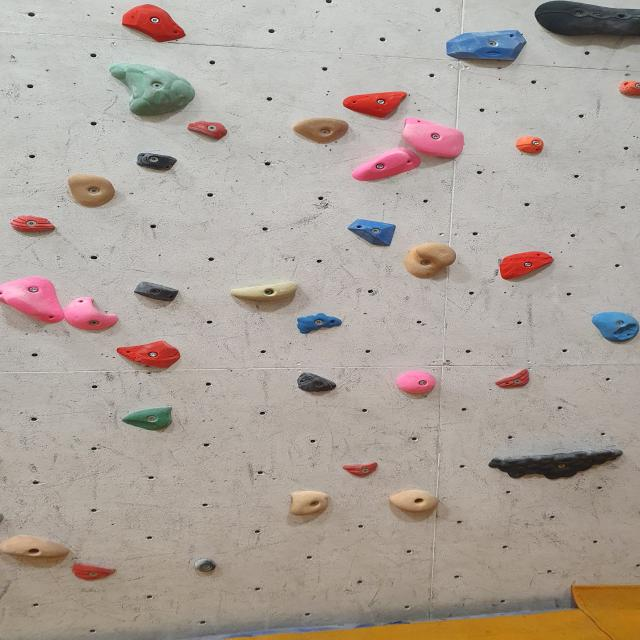Crimp: (443, 29, 529, 64), (124, 4, 191, 45), (354, 148, 426, 186), (120, 341, 182, 372), (342, 91, 415, 117), (498, 250, 552, 280), (292, 372, 343, 394), (69, 560, 118, 582), (186, 120, 230, 140), (342, 460, 390, 476), (11, 215, 52, 233), (496, 368, 530, 389)
Jug: (488, 447, 623, 482), (397, 119, 471, 162), (289, 115, 359, 144), (402, 242, 457, 278), (388, 486, 447, 514), (64, 298, 114, 330), (66, 176, 111, 207), (290, 489, 335, 518)
Pinch: (0, 533, 78, 560), (227, 280, 296, 303), (135, 279, 179, 304), (396, 370, 438, 395), (133, 152, 174, 171), (515, 135, 547, 157), (618, 78, 640, 101), (192, 557, 216, 571)
Sloper: (112, 59, 196, 116), (532, 0, 640, 39), (0, 277, 62, 323), (588, 309, 640, 350), (346, 214, 397, 247), (122, 406, 178, 429), (291, 312, 342, 334)
